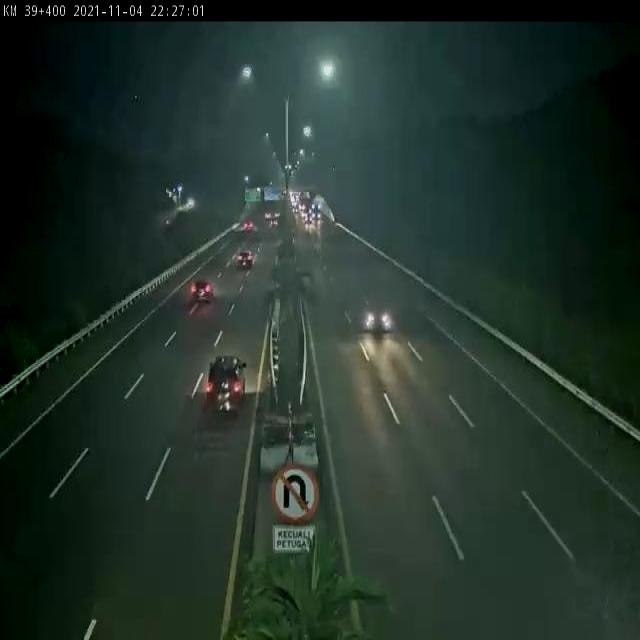Car: (205, 354, 248, 420), (361, 296, 392, 332), (190, 280, 213, 303), (237, 250, 256, 270)
